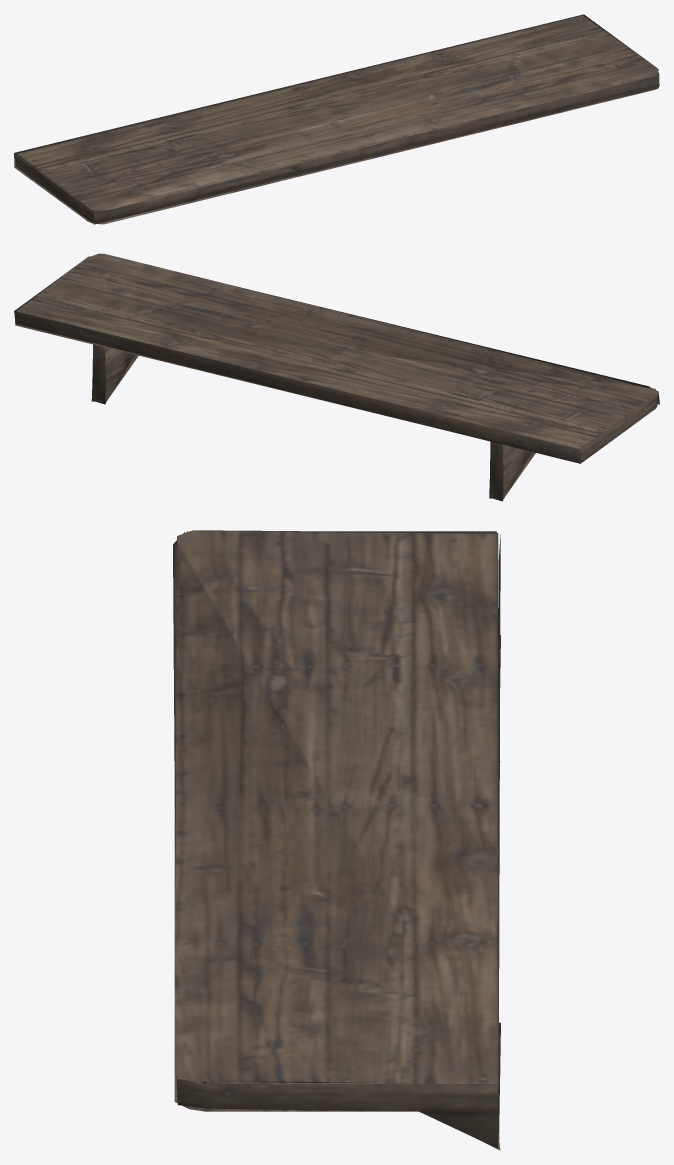
The model's file is wall_plank.glb.
3 renders of one model, top to bottom at view 1: azimuth 30°, elevation 25°; view 2: azimuth 150°, elevation 25°; view 3: azimuth 270°, elevation 25°, orthographic. The views are drawn at different scales.
Parts seen in each view (by area): view 1: Shelf_Wood Planks_0; view 2: Shelf_Wood Planks_0; view 3: Shelf_Wood Planks_0.
Boxes of the visible parts, box(x1,y1,x2,y2) form: Shelf_Wood Planks_0: box(14, 14, 659, 224); Shelf_Wood Planks_0: box(14, 253, 659, 501); Shelf_Wood Planks_0: box(173, 530, 500, 1150).
Size of the model in its own units: 0.6211 by 0.0757 by 0.1553.
Materials: 1 (1 with a texture image).
